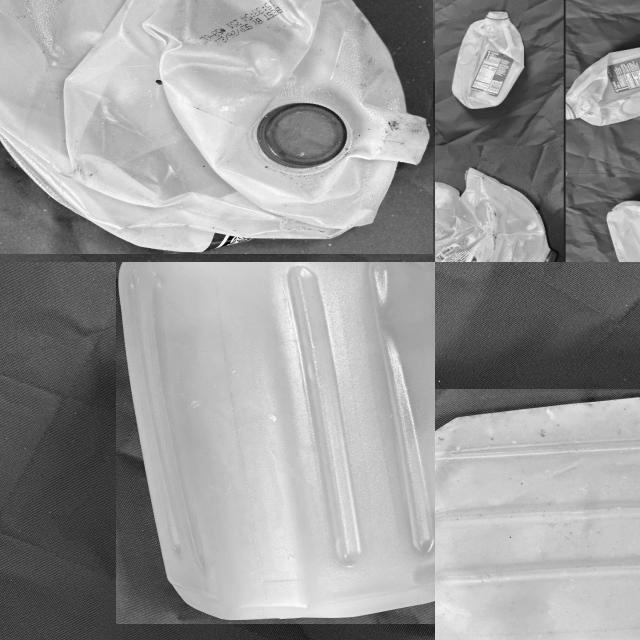milk-jug: (115, 262, 435, 624), (0, 0, 433, 254), (435, 388, 640, 640), (435, 168, 556, 262), (446, 6, 528, 110), (567, 32, 640, 141), (597, 188, 640, 262)
